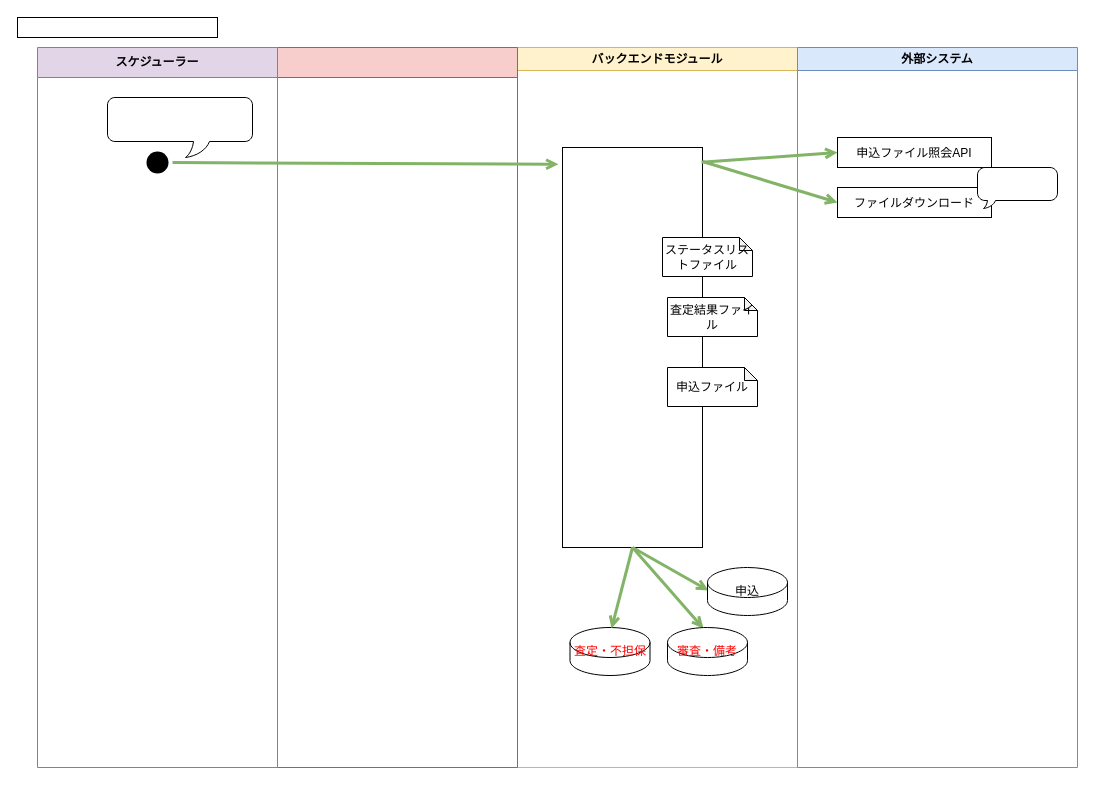
This 1095x785 diagram has some shape labels left out. Here are the shapes that lost their labels. From the top down, the centre of each, then its label:
At point 117,27: "バッチ(ステータス同期)".
At point 179,127: "毎時実行".
At point 1017,187: "基幹システム".
At point 632,347: "ステータス同期バッチ".
At point 397,407: "フロントエンドモジュール".
